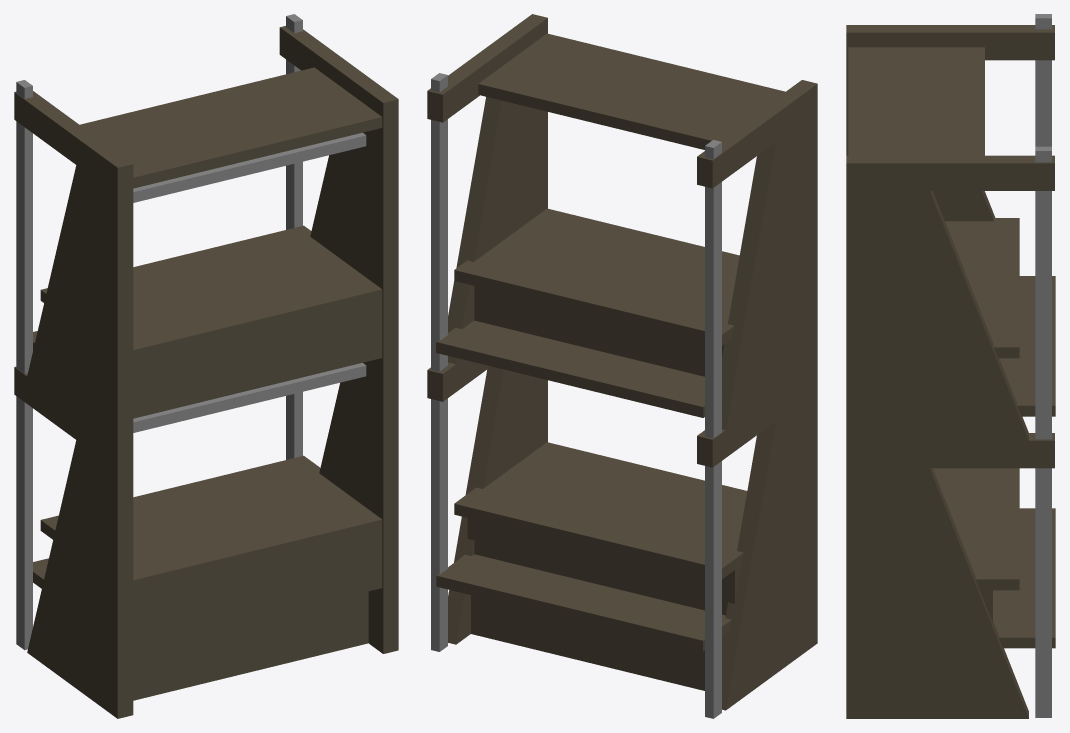
File: armoryShelf.fbx
3 renders of one model, left to right at view 1: azimuth 30°, elevation 25°; view 2: azimuth 150°, elevation 25°; view 3: azimuth 270°, elevation 25°, orthographic.
Parts seen in each view (by area): view 1: pCube4; view 2: pCube4; view 3: pCube4.
Boxes of the visible parts, x1=… form: pCube4: x1=14, y1=14, x2=398, y2=718; pCube4: x1=427, y1=14, x2=817, y2=718; pCube4: x1=846, y1=14, x2=1055, y2=718.
Bounding box in the file's own units: 175 × 334 × 112.
